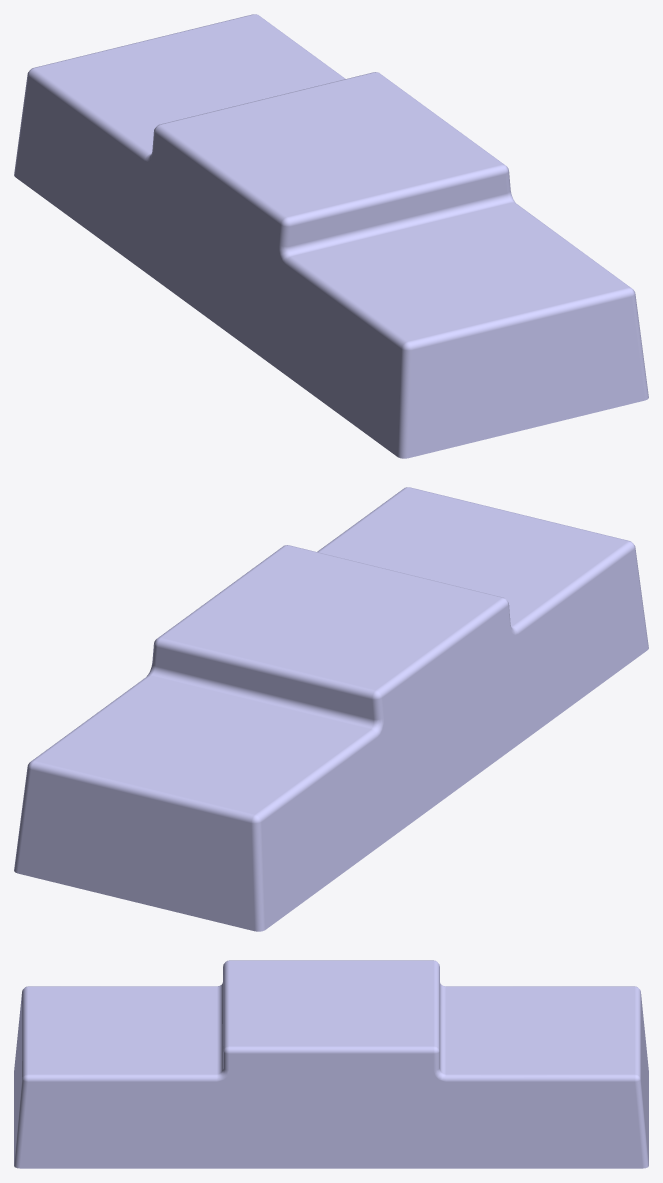
File: Ingot.FBX
3 views of the same model, one above another, from view 1: azimuth 30°, elevation 25°; view 2: azimuth 150°, elevation 25°; view 3: azimuth 270°, elevation 25° (orthographic). The views are drawn at different scales.
Visible parts, largest first — view 1: PartBody; view 2: PartBody; view 3: PartBody.
Part boxes in pixels (x1,y1,x2,y2): PartBody: (14, 14, 648, 458); PartBody: (14, 487, 648, 931); PartBody: (14, 960, 648, 1168).
Size of the model in its own units: 567 by 1532 by 307.
